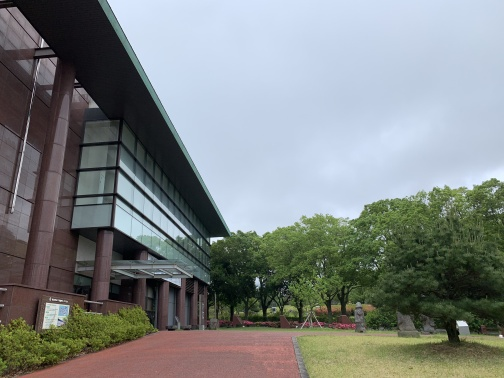Museum: (27, 30, 233, 361)
